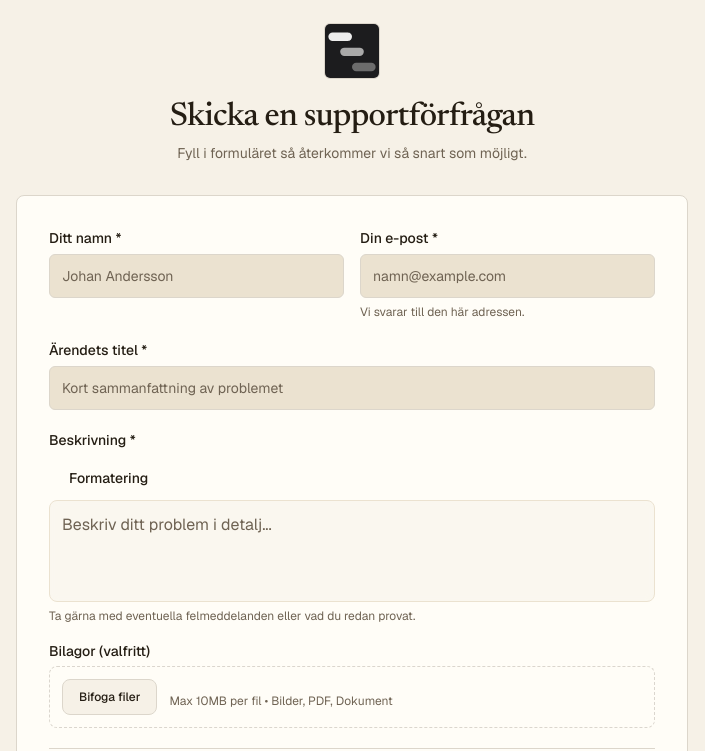
it: PublicTicketForm — en sida, inga steg › visar ärenderubrikens fel före innehållsfelet
Type "Anna Andersson" into the field labelled "Ditt namn *".
click(196, 276); type("Anna Andersson")  # box [49,254,344,298]
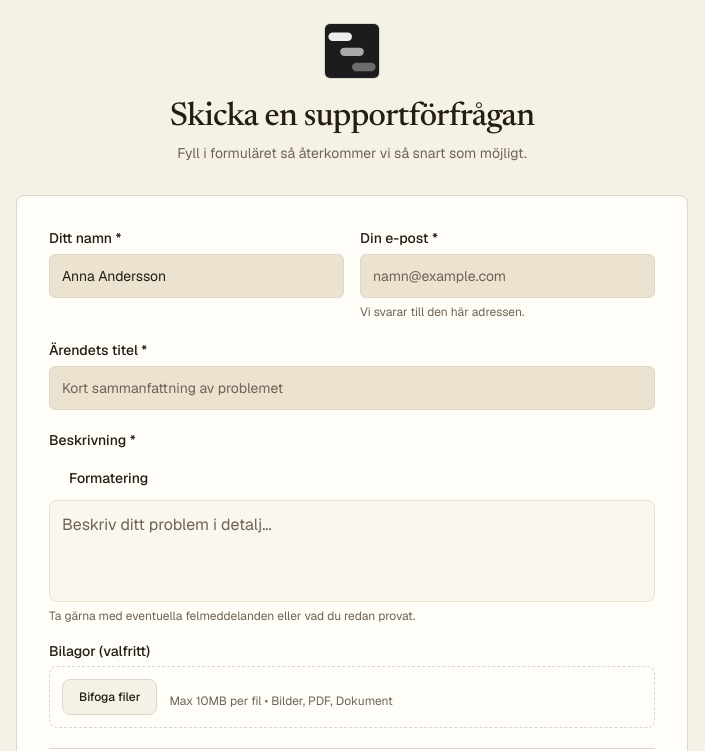
Type "anna@example.com" into the field labelled "Din e-post *".
click(508, 276); type("anna@example.com")  # box [360,254,655,298]
(page scrolled)
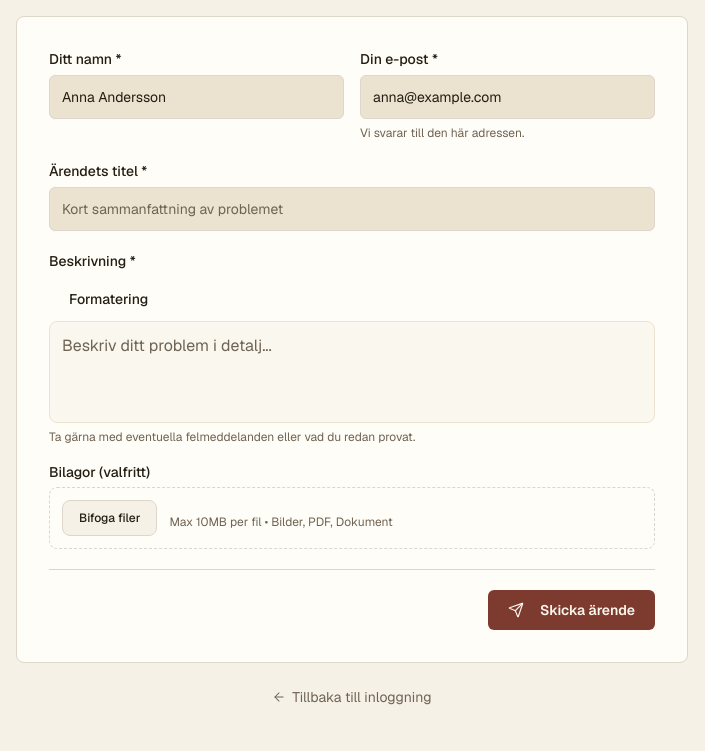
Click the button "Skicka ärende".
click(571, 610)  # box [488,590,655,630]
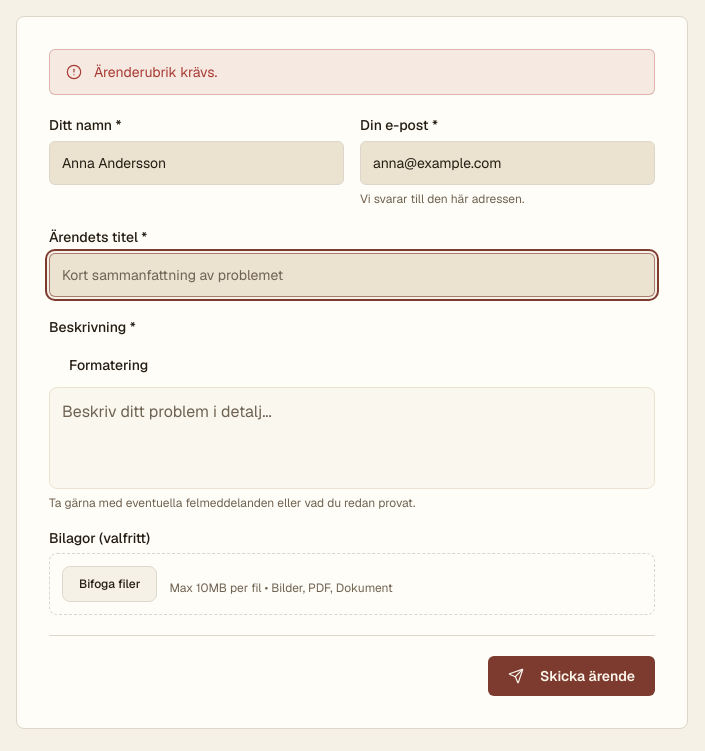
Expected: the message reads "Ärenderubrik krävs.", [94,63,217,81]
